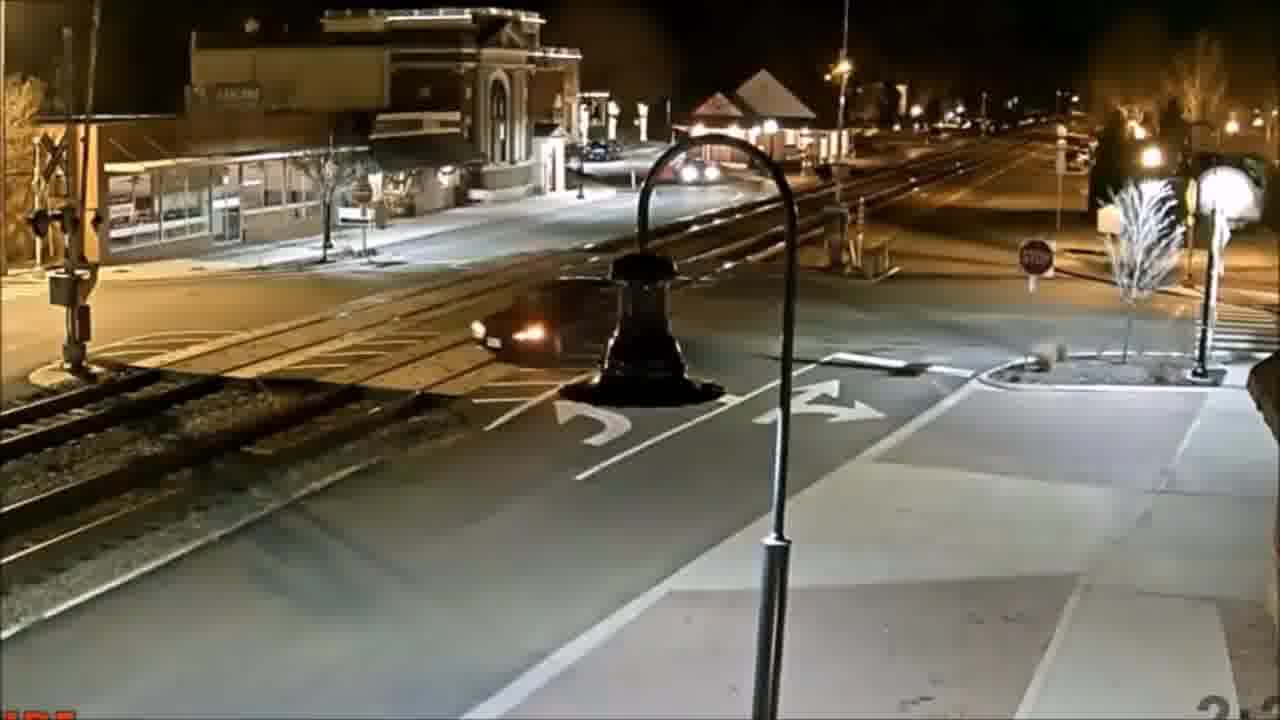crossing railway track: (466, 278, 650, 374)
